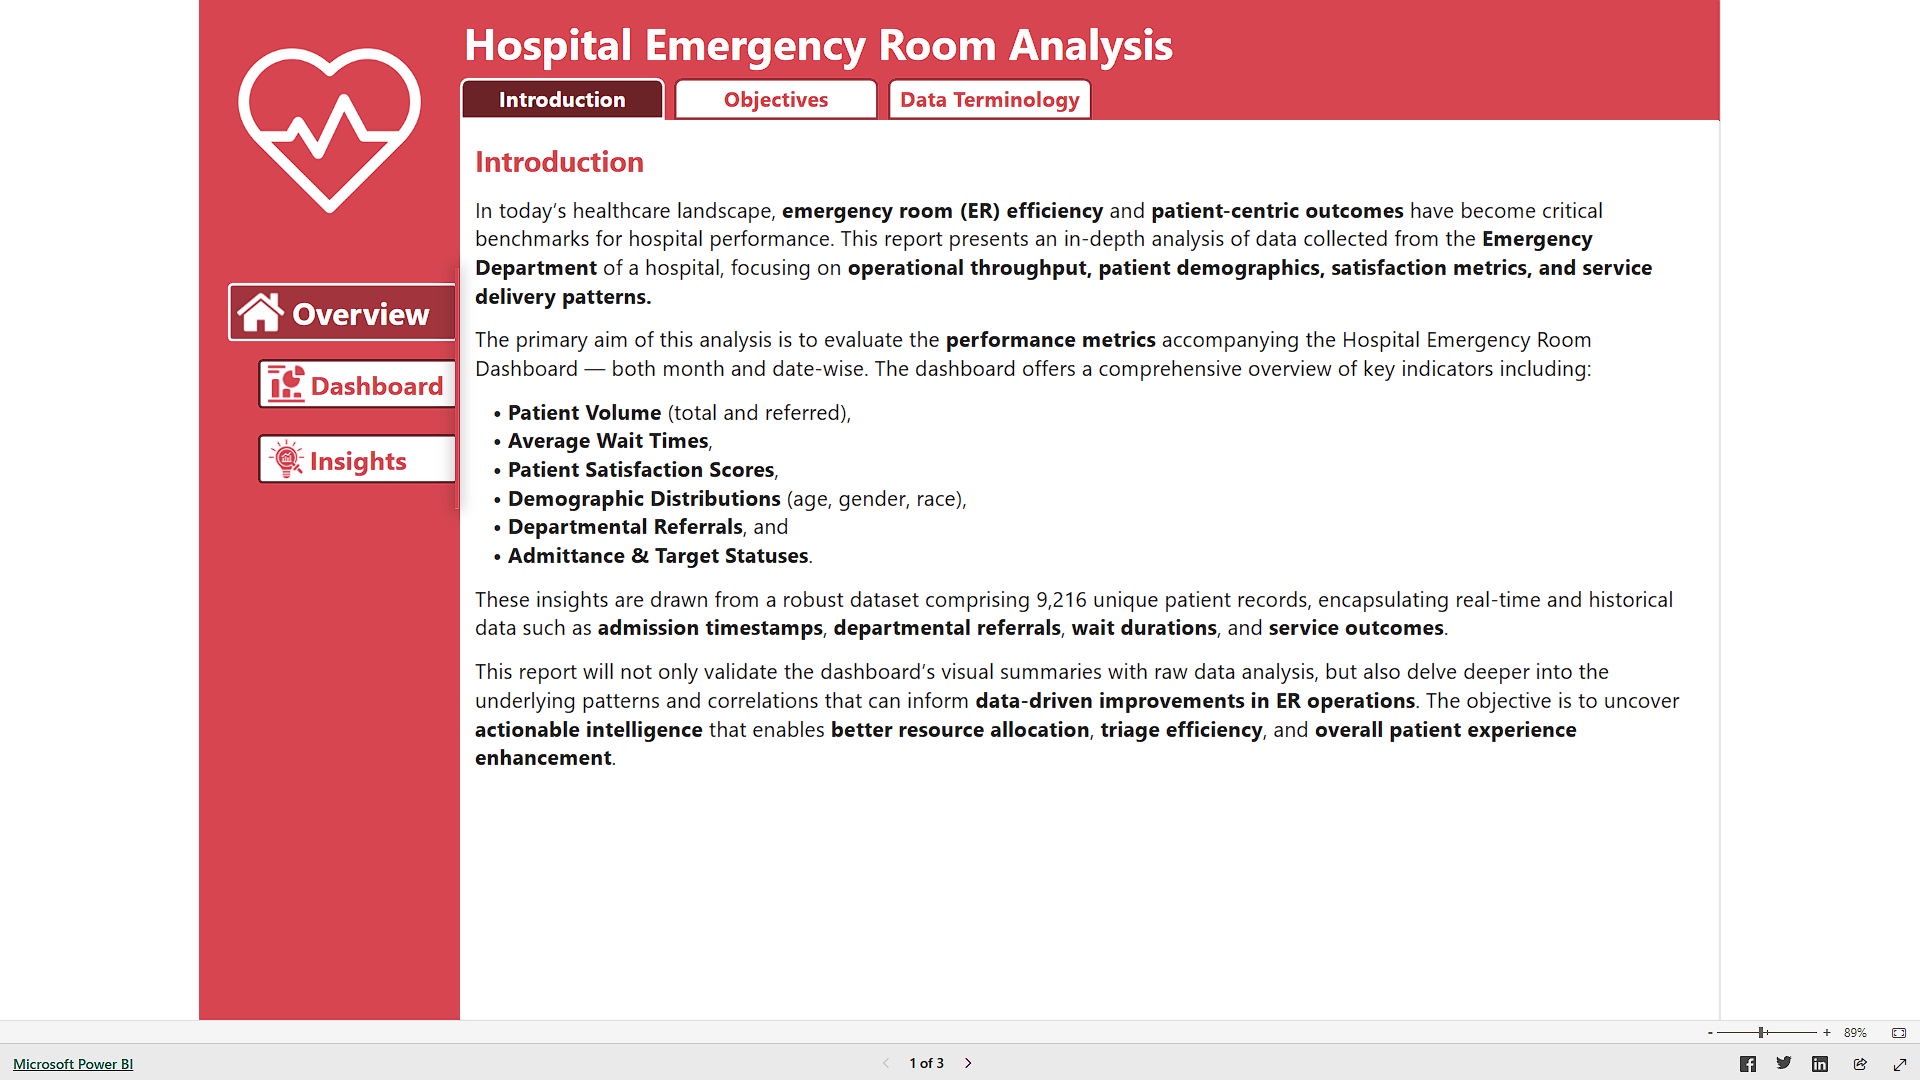

The dashboard page shown, as its layout file describes it:
{"tool":"powerbi","page":{"name":"Objectives","canvas":[1700,1140],"ordinal":2},"visuals":[{"type":"shape","box":[0,0,292.2,1139.5],"z":0},{"type":"textbox","title":"Hospital Emergency Room Analysis","box":[290.8,14.7,938.4,91],"z":0,"group":"g1"},{"type":"actionButton","box":[34.3,316.7,257.4,65.4],"z":0,"group":"g2"},{"type":"shape","box":[292,0,1408,135],"z":1000},{"type":"actionButton","box":[67.7,401.6,224,55.7],"z":1000,"group":"g2"},{"type":"image","box":[0,38.6,291.4,214.3],"z":2000},{"type":"actionButton","box":[67.7,485.2,224,55.7],"z":2000,"group":"g2"},{"type":"shape","box":[291.4,134.3,1407.1,1005.7],"z":3000},{"type":"shape","box":[287.5,300,4.2,268.5],"z":3000,"group":"g2"},{"type":"pageNavigator","box":[292.2,87.7,709.6,47.3],"z":4000},{"type":"textbox","box":[292.2,135,1405.2,1004.5],"z":5000},{"type":"group","id":"g1","title":"Group 1","box":[290.8,14.7,938.4,91],"z":6000},{"type":"group","id":"g2","title":"Group 2","box":[34.3,300,257.4,268.5],"z":7000}]}

Visuals, with their boxes on the page's 1700x1140 design canvas (x1, y1, x2, y2). These are canvas units, not pixel positions in the 1920x1080 screenshot, which may show the page scaled, cropped or inside an application window:
shape: [left=0, top=0, right=292, bottom=1140]
"Hospital Emergency Room Analysis" textbox: [left=291, top=15, right=1229, bottom=106]
actionButton: [left=34, top=317, right=292, bottom=382]
shape: [left=292, top=0, right=1700, bottom=135]
actionButton: [left=68, top=402, right=292, bottom=457]
image: [left=0, top=39, right=291, bottom=253]
actionButton: [left=68, top=485, right=292, bottom=541]
shape: [left=291, top=134, right=1698, bottom=1140]
shape: [left=288, top=300, right=292, bottom=568]
pageNavigator: [left=292, top=88, right=1002, bottom=135]
textbox: [left=292, top=135, right=1697, bottom=1140]
"Group 1" group: [left=291, top=15, right=1229, bottom=106]
"Group 2" group: [left=34, top=300, right=292, bottom=568]
